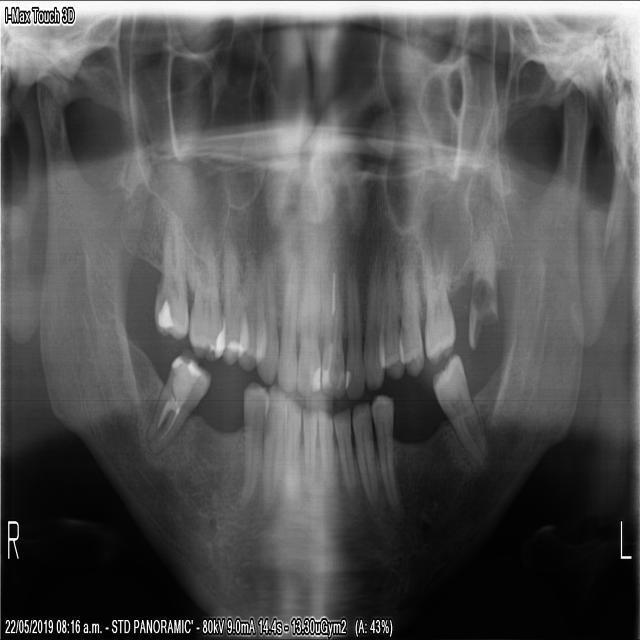LCU: (363, 245, 385, 393)
LID: (332, 403, 357, 502), (317, 407, 335, 487)
LIU: (320, 264, 344, 402), (343, 269, 364, 399)
LMD: (430, 349, 489, 466)
LMU: (421, 246, 454, 367), (466, 226, 497, 352)
LPMD: (370, 389, 407, 524), (351, 402, 379, 510)
LPMU: (398, 245, 424, 376), (384, 248, 405, 384)
RCD: (260, 384, 283, 512)
RCU: (255, 250, 276, 384)
RID: (282, 392, 300, 504), (300, 402, 316, 487)
RIU: (275, 243, 300, 394), (295, 252, 320, 398)
RMD: (141, 346, 211, 457)
RMU: (151, 198, 187, 339), (186, 219, 220, 361)
RPMD: (236, 377, 269, 508)
RPMU: (218, 233, 239, 369), (235, 245, 256, 374)
